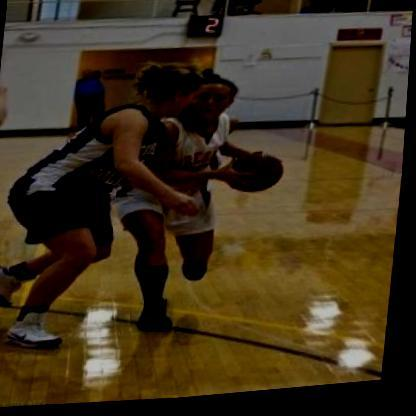basketball: (229, 155, 289, 200)
